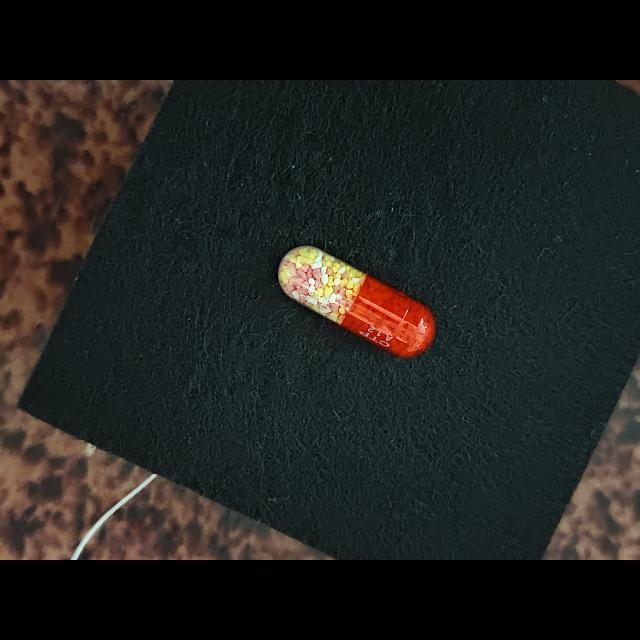Intact Capsule: (278, 245, 436, 358)
